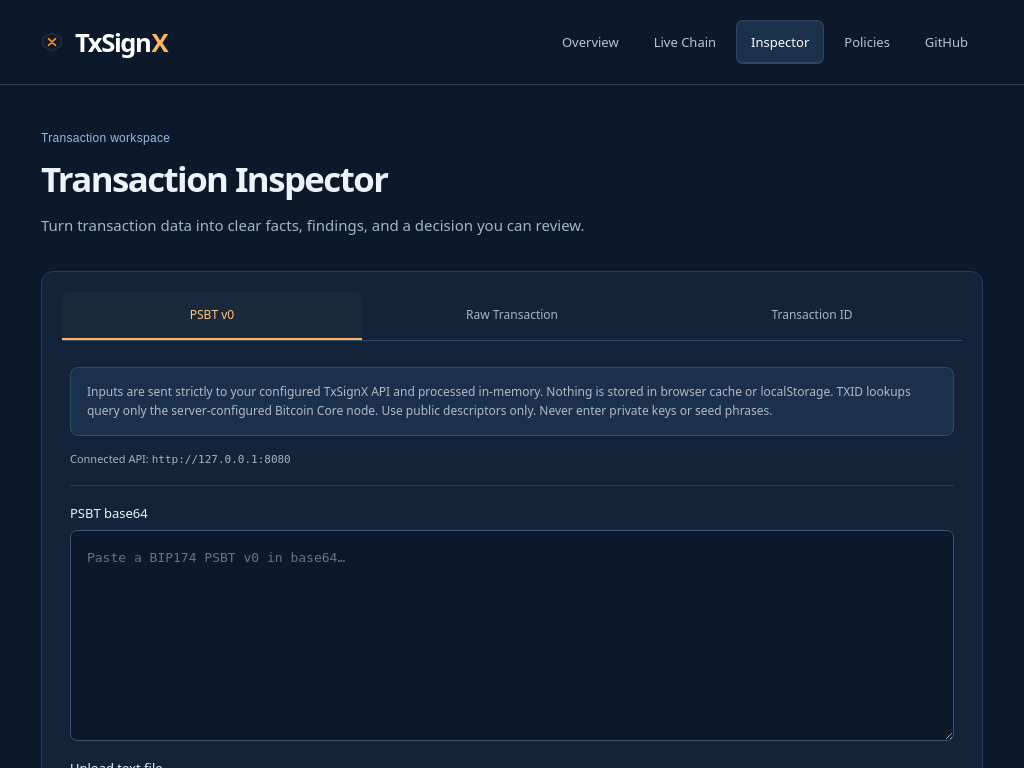
it: product flows › renders backend PASS and separate coverage with actual facts
Type "cHNidP8=" into the text box labelled "PSBT base64".
click(512, 636); type("cHNidP8=")  # box [70,530,954,741]
(page scrolled)
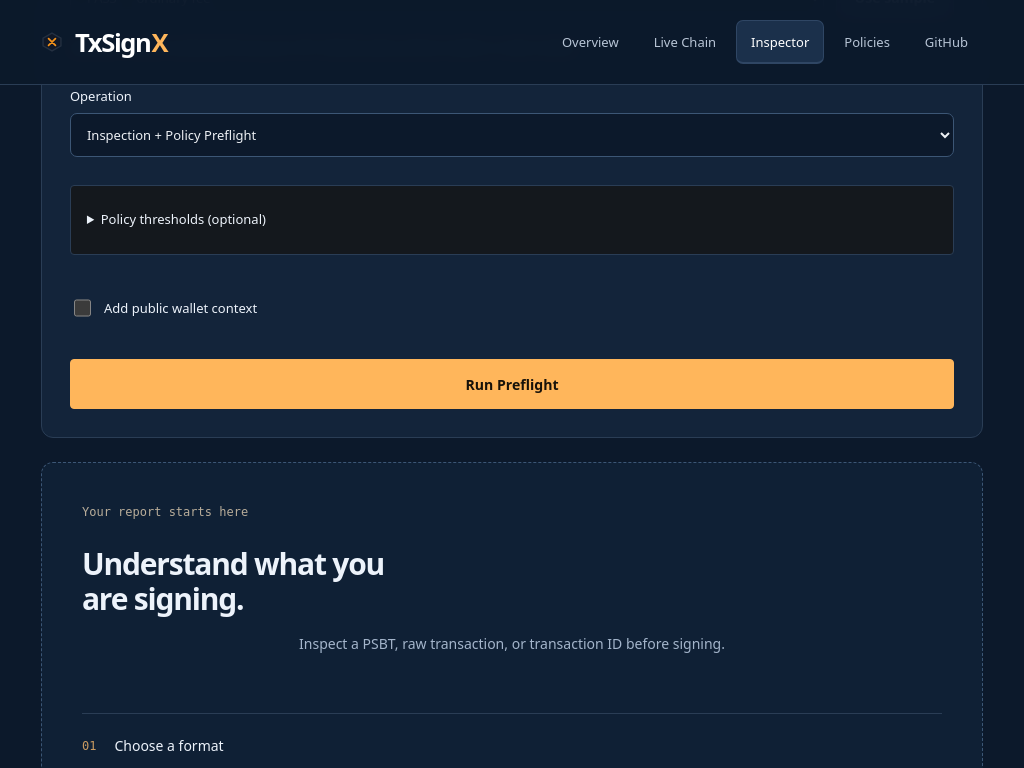
Click the button "Run Preflight".
click(512, 384)  # box [70,359,954,409]
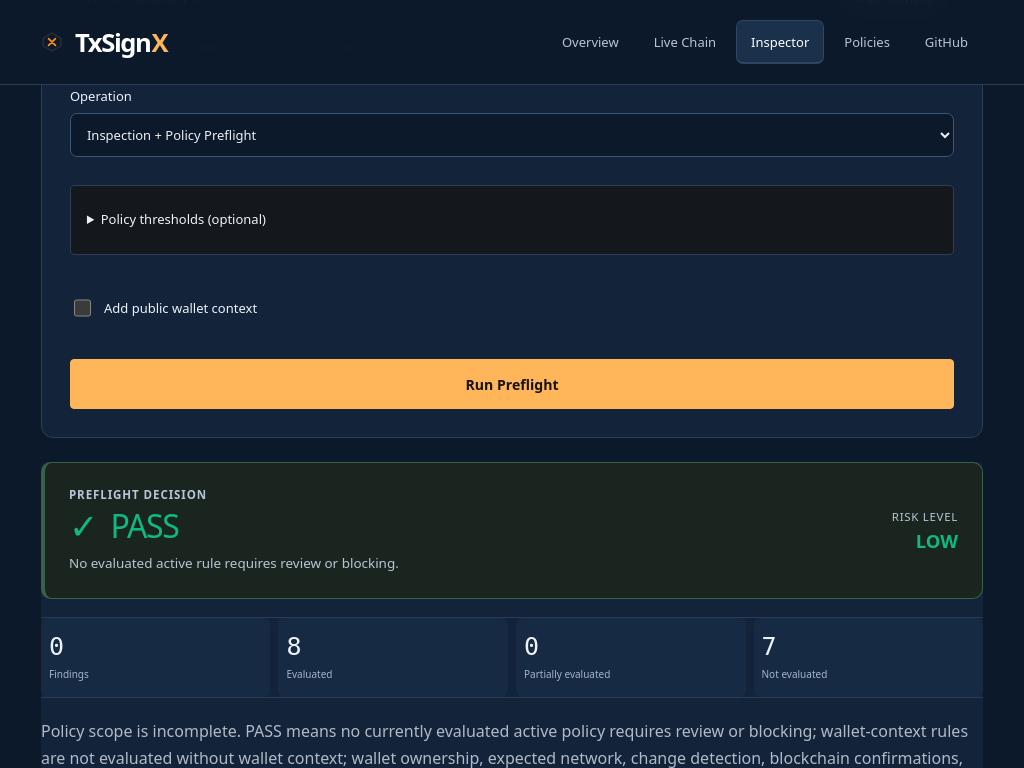
Check: the heading "PASS" is shown, box [110,510,179,542]
